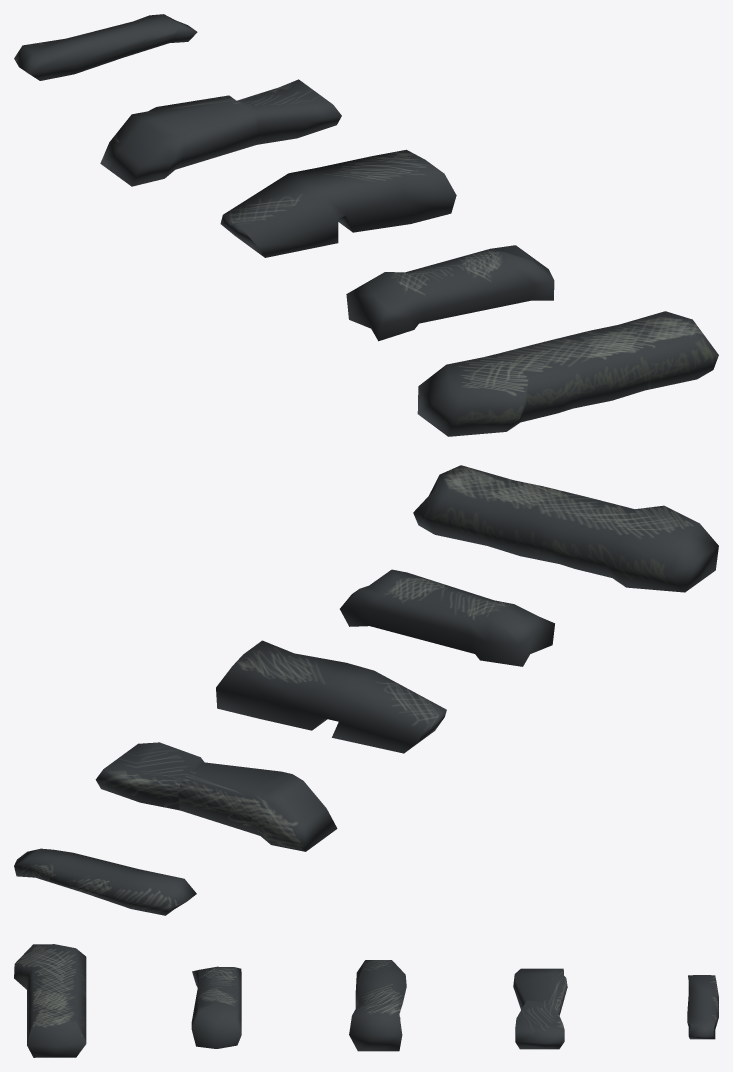
File: Rockstairs002.fbx
The picture shows the model from 3 angles, top to bottom: view 1: azimuth 30°, elevation 25°; view 2: azimuth 150°, elevation 25°; view 3: azimuth 270°, elevation 25°; orthographic projection. The views are drawn at different scales.
Visible parts, largest first — view 1: RockStairs002_Rock01, RockStairs002_Rock03, RockStairs002_Rock04, RockStairs002_Rock02, RockStairs002_Rock05; view 2: RockStairs002_Rock01, RockStairs002_Rock03, RockStairs002_Rock04, RockStairs002_Rock02, RockStairs002_Rock05; view 3: RockStairs002_Rock01, RockStairs002_Rock03, RockStairs002_Rock04, RockStairs002_Rock02, RockStairs002_Rock05.
Boxes of the visible parts, <box> form: RockStairs002_Rock01: <box>417,311,718,436</box>; RockStairs002_Rock03: <box>220,149,456,257</box>; RockStairs002_Rock04: <box>100,79,341,186</box>; RockStairs002_Rock02: <box>346,245,554,341</box>; RockStairs002_Rock05: <box>14,14,197,80</box>; RockStairs002_Rock01: <box>413,465,718,592</box>; RockStairs002_Rock03: <box>216,640,446,753</box>; RockStairs002_Rock04: <box>95,742,337,851</box>; RockStairs002_Rock02: <box>340,569,554,666</box>; RockStairs002_Rock05: <box>14,848,196,915</box>; RockStairs002_Rock01: <box>14,944,86,1057</box>; RockStairs002_Rock03: <box>349,960,406,1051</box>; RockStairs002_Rock04: <box>513,968,567,1049</box>; RockStairs002_Rock02: <box>191,966,241,1048</box>; RockStairs002_Rock05: <box>687,975,718,1039</box>.
Bounding box in the file's own units: 1.34 × 0.2731 × 4.35.
Materials: 1 (1 with a texture image).
